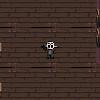Jason: (40, 39, 59, 61)
